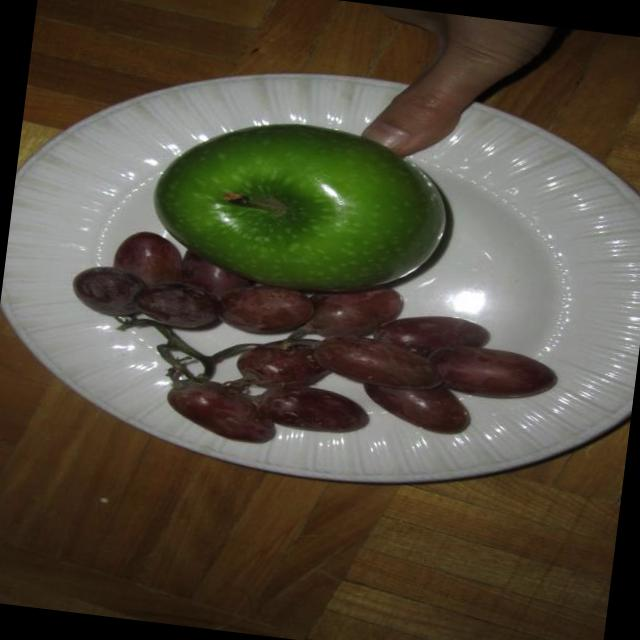Apple: (157, 116, 463, 295)
Finger: (358, 52, 509, 162)
Grapes: (32, 262, 589, 493)
